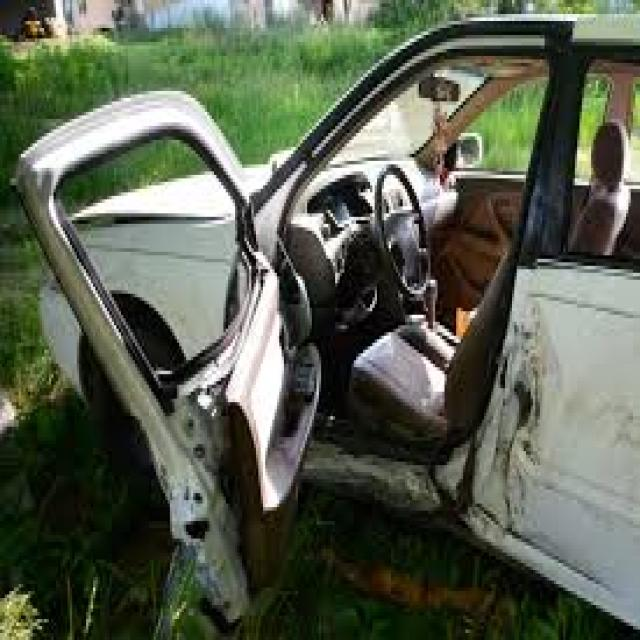moderate: (70, 15, 638, 609)
